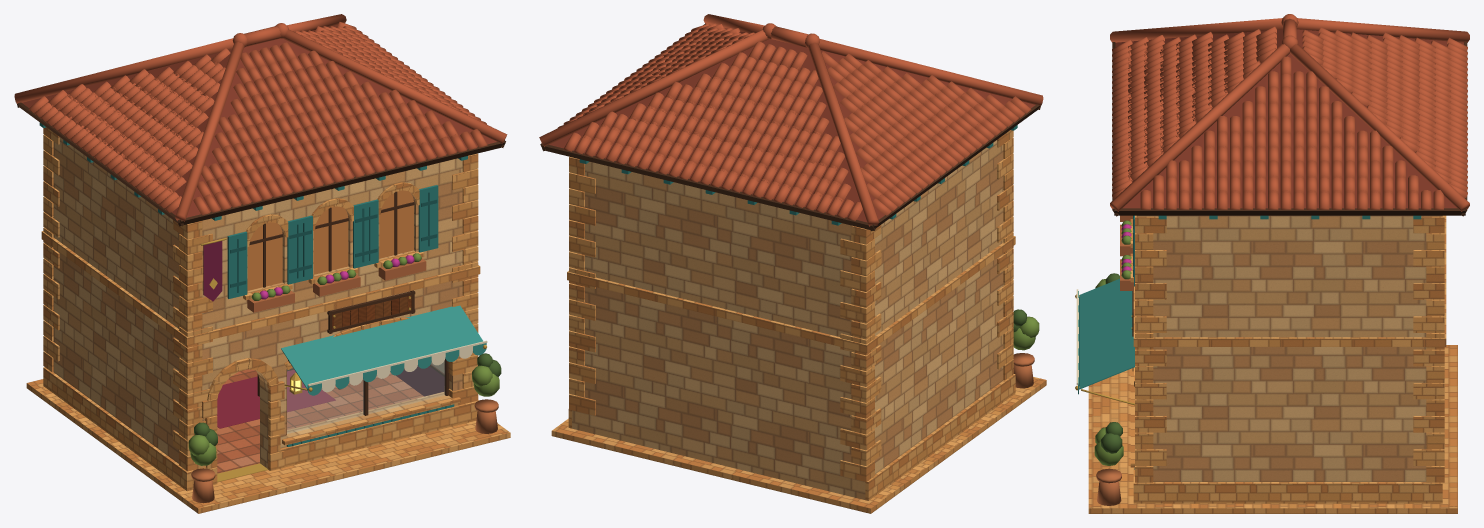
The model's file is house_medium_awning.glb.
The picture shows the model from 3 angles, left to right: view 1: azimuth 30°, elevation 25°; view 2: azimuth 150°, elevation 25°; view 3: azimuth 270°, elevation 25°; orthographic projection. The views are drawn at different scales.
Parts seen in each view (by area): view 1: roof_tiles, exterior_walls, exterior_trim, windows, roof_structure, opt_awning, interior_floor, planters, door_frame, sign_board, facade_details, interior_walls; view 2: exterior_walls, roof_tiles, exterior_trim, roof_structure, planters; view 3: exterior_walls, roof_tiles, exterior_trim, roof_structure, opt_awning, planters.
Boxes of the visible parts, x1,y1,x2,y2 form: roof_tiles: (14,14,507,221); exterior_walls: (53,137,462,468); exterior_trim: (26,127,510,513); windows: (227,185,454,446); roof_structure: (16,25,505,226); opt_awning: (281,305,487,395); interior_floor: (217,369,423,473); planters: (188,253,501,503); door_frame: (201,358,284,484); sign_board: (327,290,415,333); facade_details: (200,238,226,301); interior_walls: (396,362,444,396); exterior_walls: (572,140,1003,500); roof_tiles: (539,14,1043,226); exterior_trim: (551,130,1046,513); roof_structure: (540,23,1041,231); planters: (1013,309,1039,388); exterior_walls: (1137,215,1442,481); roof_tiles: (1110,14,1469,211); exterior_trim: (1088,215,1457,513); roof_structure: (1112,29,1467,219); opt_awning: (1075,278,1134,405); planters: (1094,215,1133,505).
Size of the model in its own units: 8.07 by 8.81 by 7.75.
Materials: 26 (5 with a texture image).
